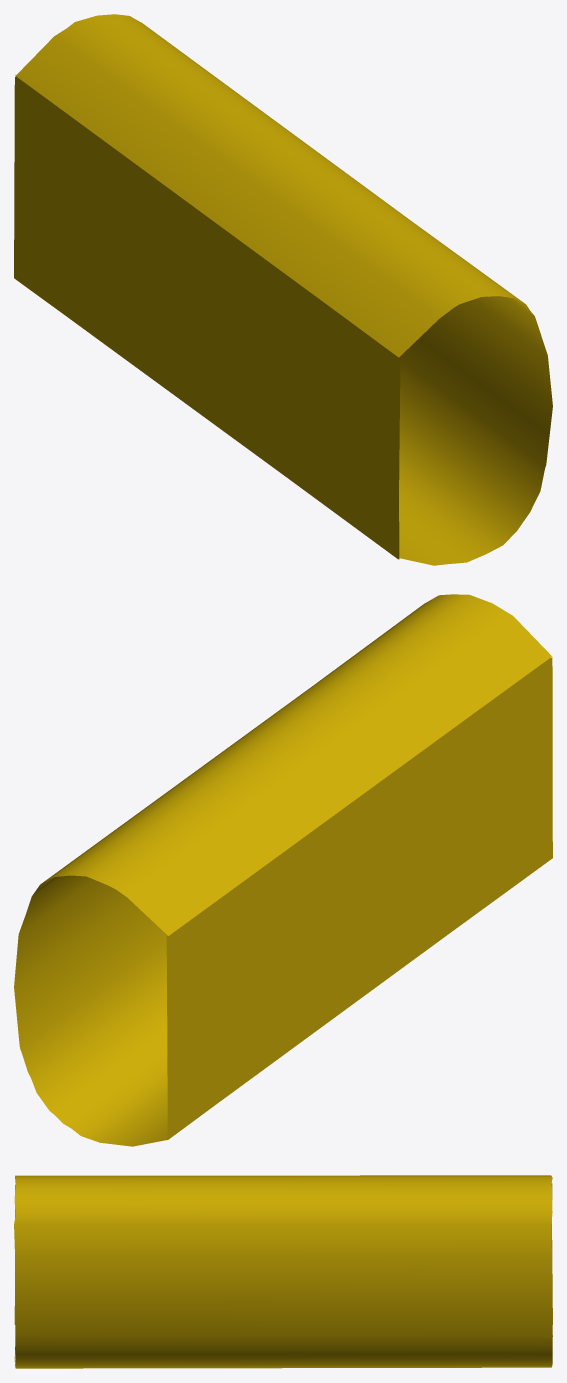
The model's file is original_17.obj.
3 views of the same model, one above another, from view 1: azimuth 30°, elevation 25°; view 2: azimuth 150°, elevation 25°; view 3: azimuth 270°, elevation 25° (orthographic). The views are drawn at different scales.
Parts seen in each view (by area): view 1: #ID105; view 2: #ID105; view 3: #ID105.
Part boxes in pixels (<box>): #ID105: <box>14,14,552,565</box>; #ID105: <box>14,594,552,1146</box>; #ID105: <box>14,1175,552,1368</box>.
Size of the model in its own units: 0.018 by 0.0292 by 0.0775.
